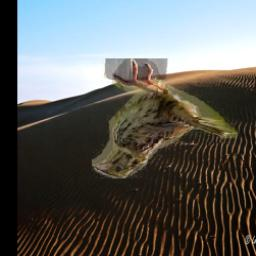Sparrow: (93, 59, 239, 180)
